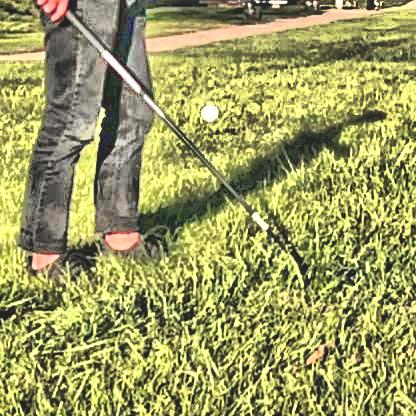golfball: (198, 100, 215, 119)
